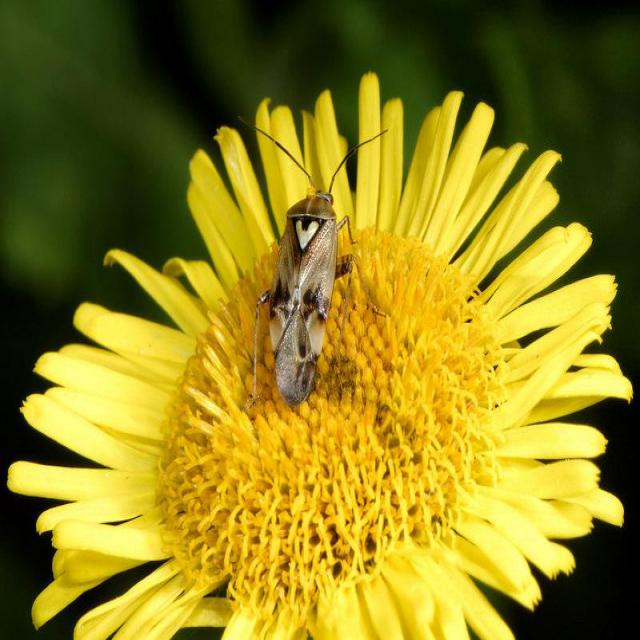Miridae-Adult-: (221, 102, 398, 417)
